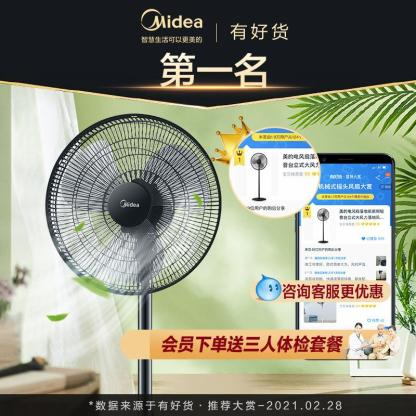fan: (30, 105, 230, 394)
